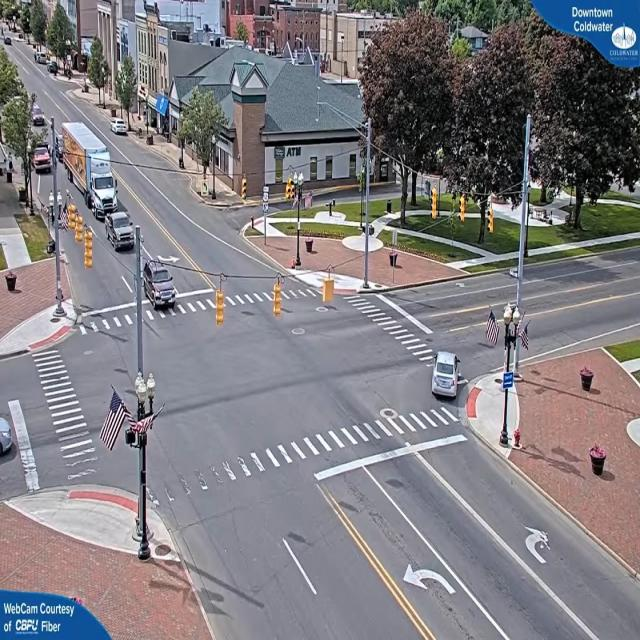car: (140, 261, 178, 307), (432, 352, 462, 399), (108, 214, 136, 251), (2, 410, 18, 461), (112, 119, 130, 136)
truck: (85, 123, 120, 219), (33, 145, 54, 173)
